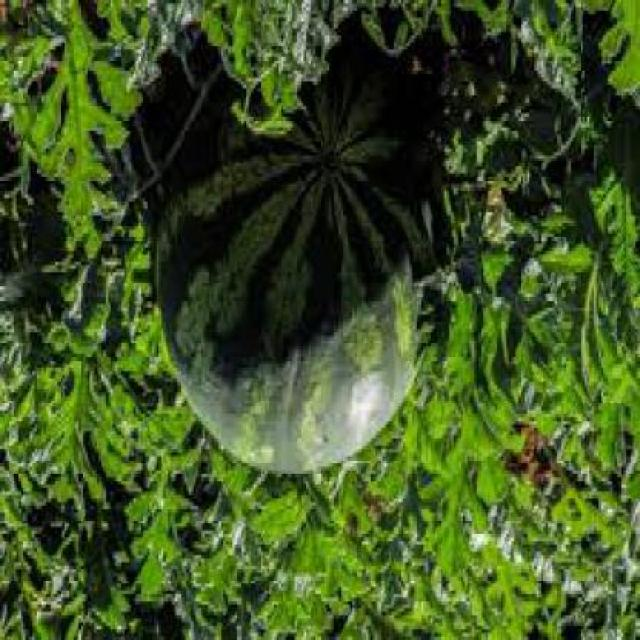BIODEGRADABLE: (0, 3, 638, 638), (142, 46, 438, 477)
